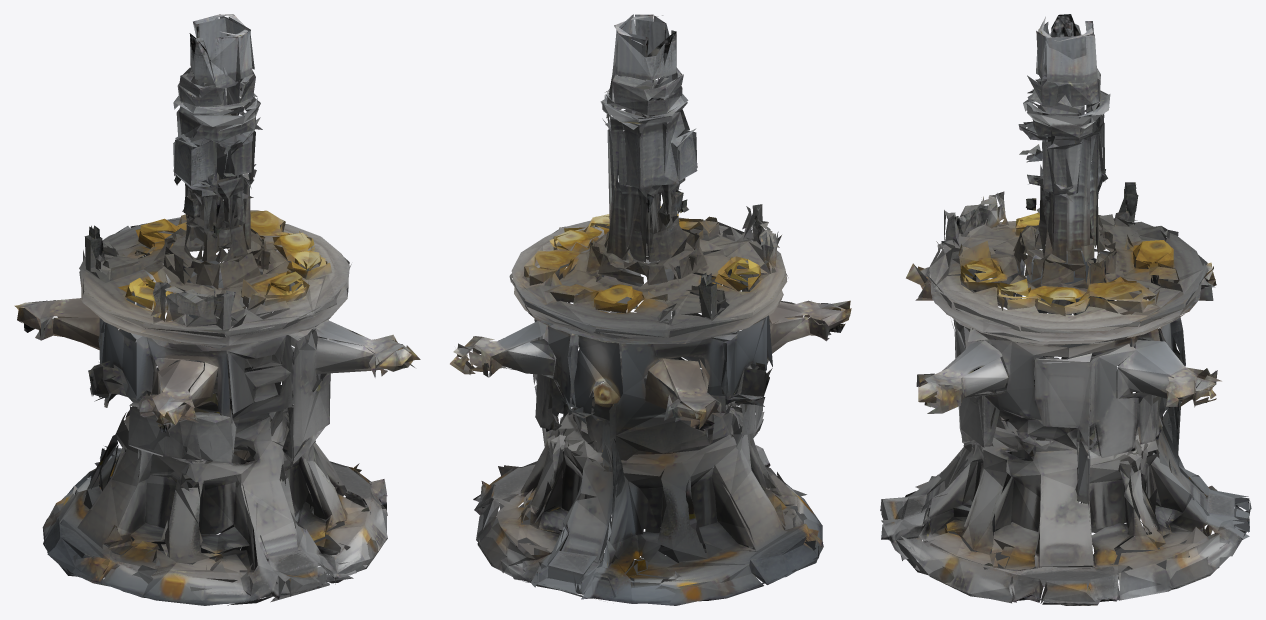
File: driller_yard_t3.fbx
3 views of the same model, side by side, from view 1: azimuth 30°, elevation 25°; view 2: azimuth 150°, elevation 25°; view 3: azimuth 270°, elevation 25° (orthographic).
Visible parts, largest first — view 1: driller_yard_t3; view 2: driller_yard_t3; view 3: driller_yard_t3.
Boxes of the visible parts, <box> form: driller_yard_t3: <box>14,14,420,605</box>; driller_yard_t3: <box>450,14,851,605</box>; driller_yard_t3: <box>880,14,1251,605</box>.
Size of the model in its own units: 2.77 by 4.26 by 2.78.
1 material, 1 textured.
